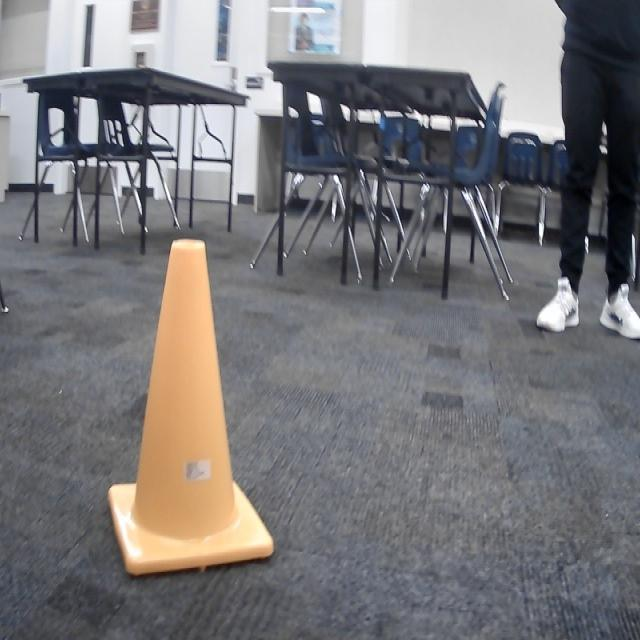cone: (103, 237, 276, 580)
